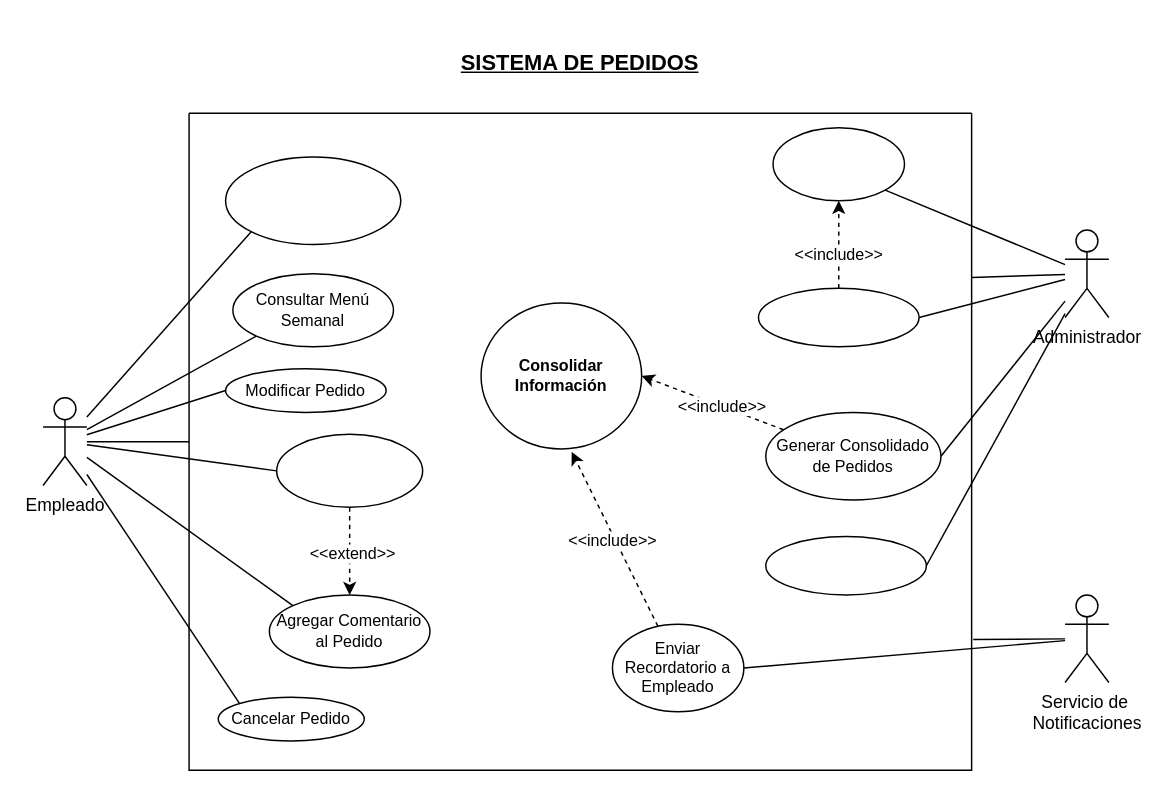
The diagram is 1167 pixels wide and 796 high, and some of its shapes have lost their labels. Each missing label, with the centre of its shape:
Administrar Menús: the point at 838,317
Configurar Asistencia Semanal: the point at 312,200
Gestionar Usarios: the point at 845,565
Publicar Menú Semanal: the point at 838,163
Registrar Pedido del Día: the point at 349,470
